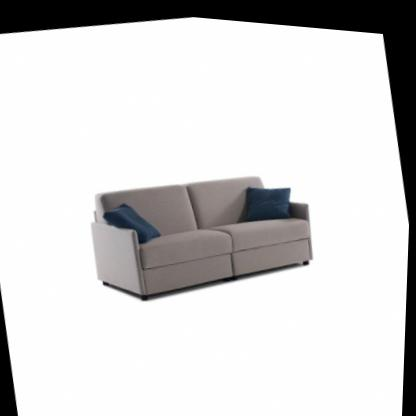Sofa: (81, 148, 324, 318)
